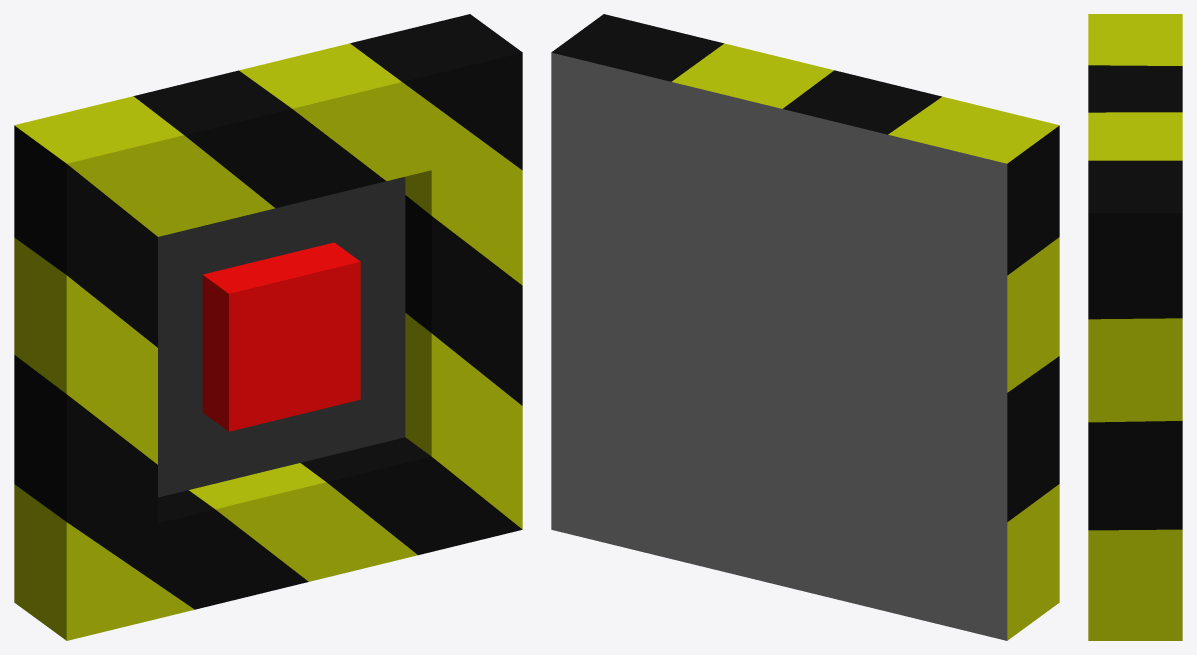
The model's file is Vault Button.FBX.
3 views of the same model, side by side, from view 1: azimuth 30°, elevation 25°; view 2: azimuth 150°, elevation 25°; view 3: azimuth 270°, elevation 25° (orthographic). The views are drawn at different scales.
Visible parts, largest first — view 1: Box001; view 2: Box001; view 3: Box001.
Boxes of the visible parts, x1,y1,x2,y2 form: Box001: [14, 14, 522, 640]; Box001: [551, 14, 1059, 640]; Box001: [1088, 14, 1182, 640].
Size of the model in its own units: 0.5 by 0.5 by 0.1.
